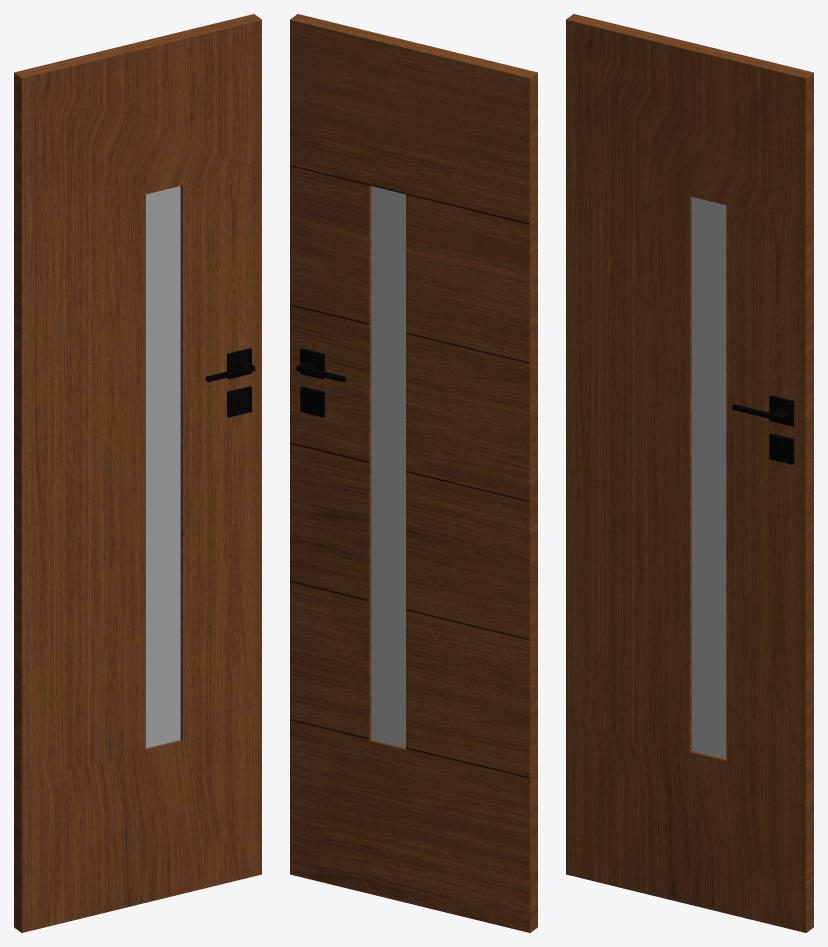
Rendered from VE_7_half_door.glb.
3 views of the same model, side by side, from view 1: azimuth 30°, elevation 25°; view 2: azimuth 150°, elevation 25°; view 3: azimuth 330°, elevation 25° (orthographic).
Visible parts, largest first — view 1: V_E_7__half_door_; view 2: V_E_7__half_door_; view 3: V_E_7__half_door_.
Part boxes in pixels (box(x1,y1,x2,y2)): V_E_7__half_door_: box(14, 14, 261, 932); V_E_7__half_door_: box(290, 14, 537, 932); V_E_7__half_door_: box(566, 14, 813, 932).
Size of the model in its own units: 0.5168 by 1.76 by 0.1036.
Materials: 2 (1 with a texture image).
